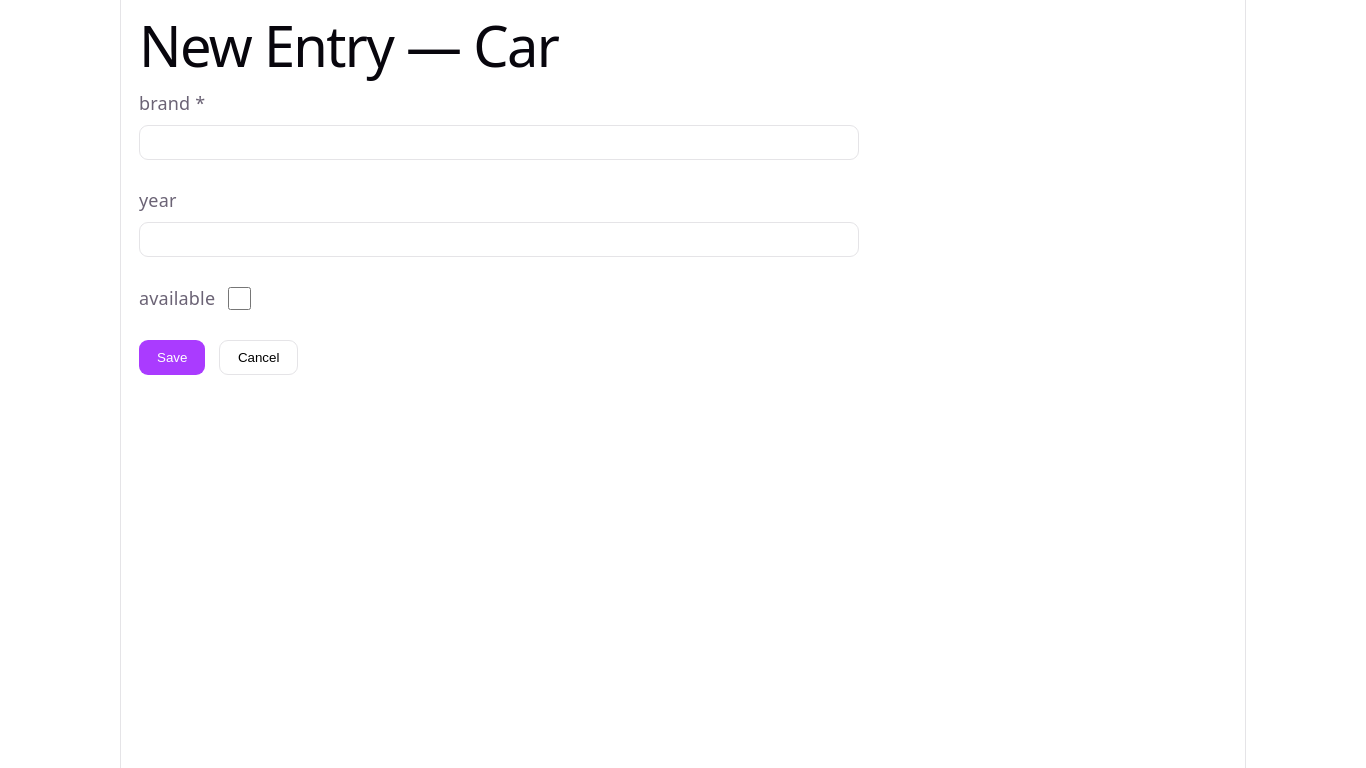
Test: EntryEditorPage — new mode › shows an alert and does not navigate when the create mutation fails
Type "Tesla" into the field named "brand". click: point(499, 143)
box: [139,125,859,160]
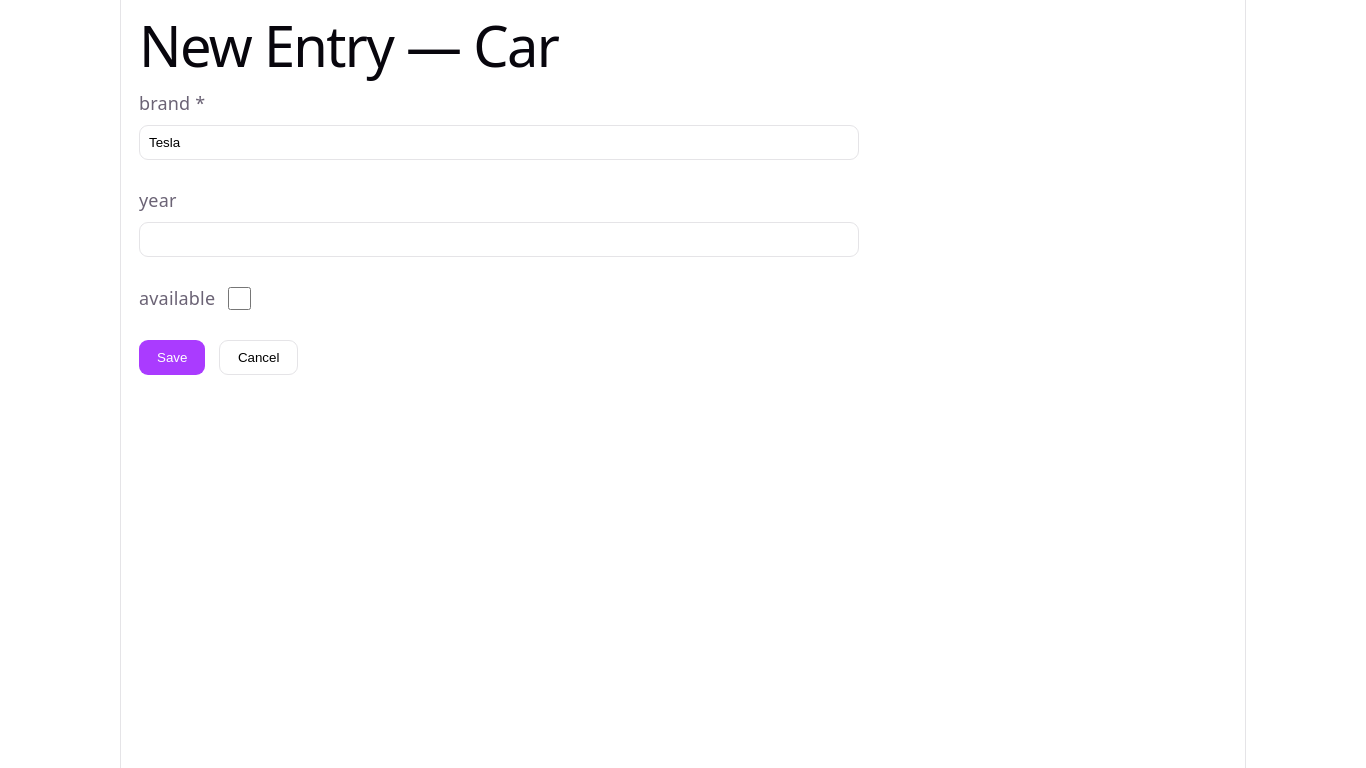
Click the button "Save". click: point(172, 357)
box: [139,340,205,375]
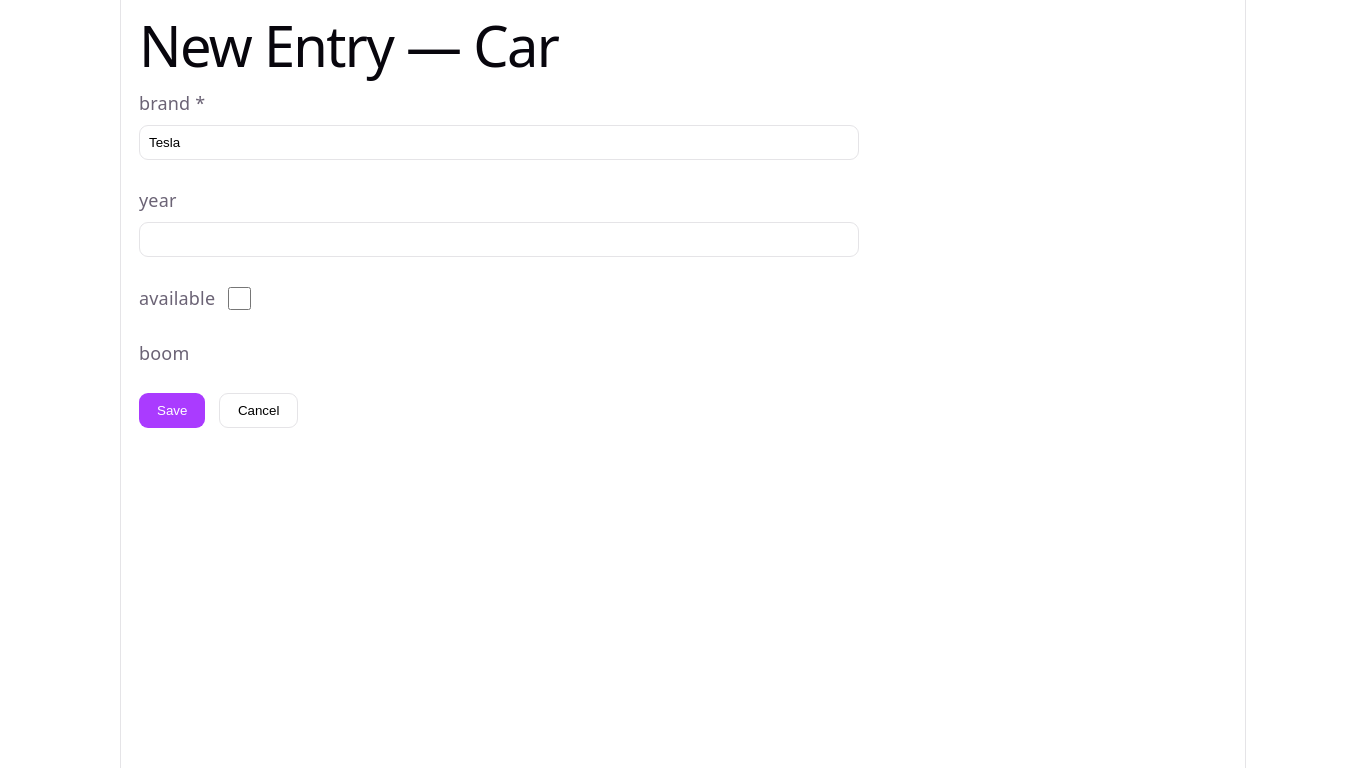
Expected: the message reads "boom", [139,341,189,365]
